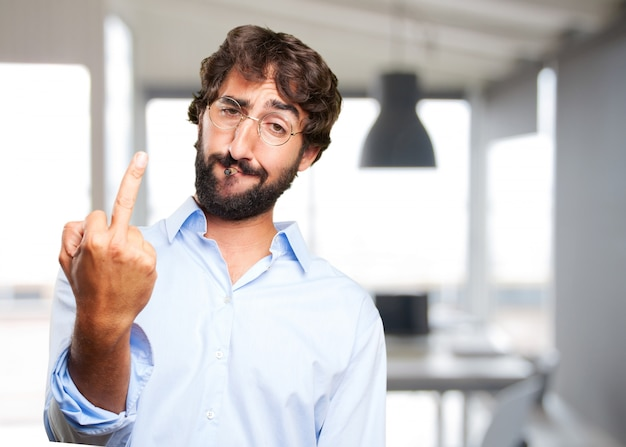cigarette: (223, 165, 239, 176)
